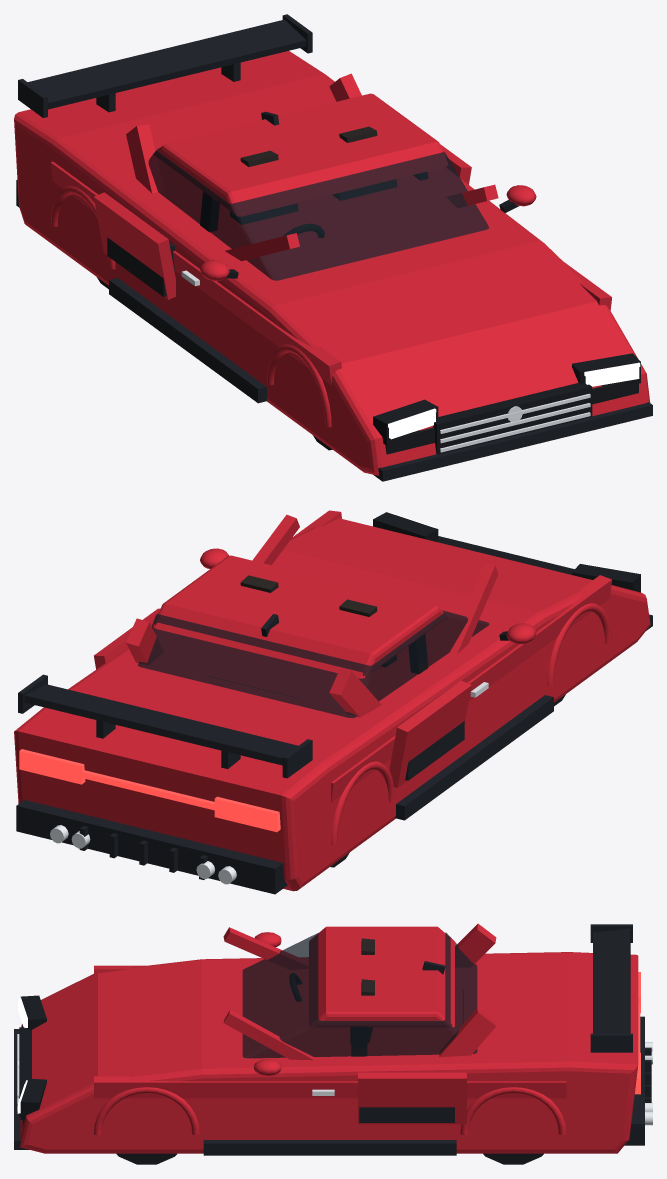
File: car_hyper.glb
The picture shows the model from 3 angles, top to bottom: view 1: azimuth 30°, elevation 25°; view 2: azimuth 150°, elevation 25°; view 3: azimuth 270°, elevation 25°; orthographic projection. The views are drawn at different scales.
Visible parts, largest first — view 1: car_hyper; view 2: car_hyper; view 3: car_hyper.
Boxes of the visible parts, left/top/right/bottom form: car_hyper: left=14, top=14, right=652, bottom=481; car_hyper: left=14, top=510, right=652, bottom=894; car_hyper: left=14, top=923, right=652, bottom=1164.
Size of the model in its own units: 2.44 by 1.28 by 4.81.
